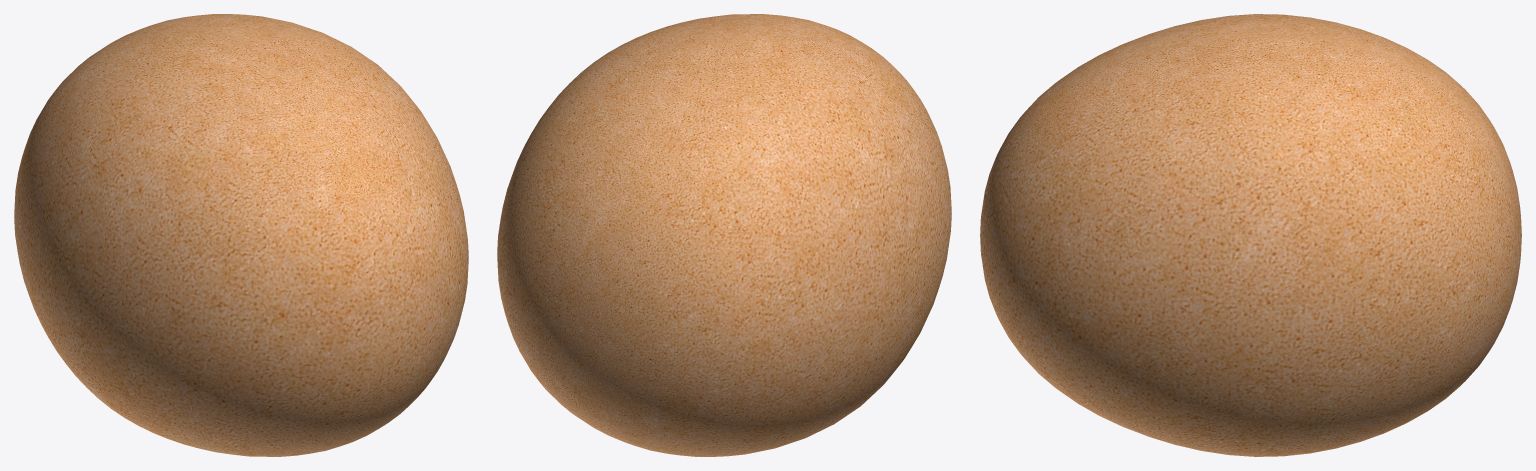
Rendered from egg.obj.
3 renders of one model, left to right at view 1: azimuth 30°, elevation 25°; view 2: azimuth 150°, elevation 25°; view 3: azimuth 270°, elevation 25°, orthographic. The views are drawn at different scales.
Parts seen in each view (by area): view 1: default001; view 2: default001; view 3: default001.
Boxes of the visible parts, <box> form: default001: <box>14,14,468,456</box>; default001: <box>497,14,951,456</box>; default001: <box>980,14,1521,456</box>.
Bounding box in the file's own units: 3.29 × 3.29 × 4.09.
